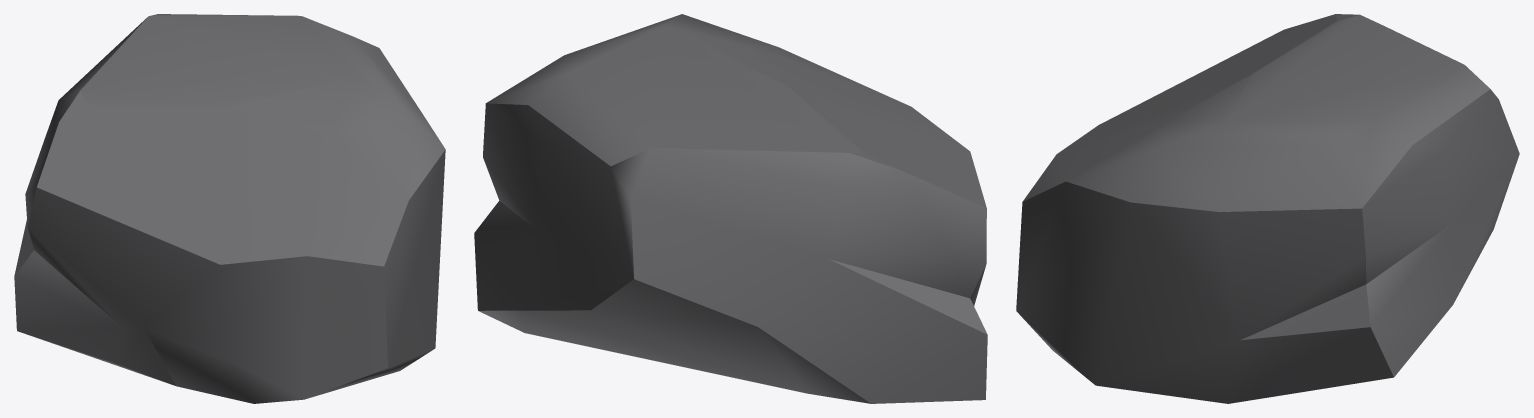
File: Stone_14.fbx
3 views of the same model, side by side, from view 1: azimuth 30°, elevation 25°; view 2: azimuth 150°, elevation 25°; view 3: azimuth 270°, elevation 25° (orthographic). The views are drawn at different scales.
Parts seen in each view (by area): view 1: Stone_14; view 2: Stone_14; view 3: Stone_14.
Boxes of the visible parts, left/top/right/bottom form: Stone_14: left=14, top=14, right=445, bottom=403; Stone_14: left=474, top=14, right=987, bottom=403; Stone_14: left=1016, top=14, right=1519, bottom=403.
Size of the model in its own units: 286 by 179 by 289.
